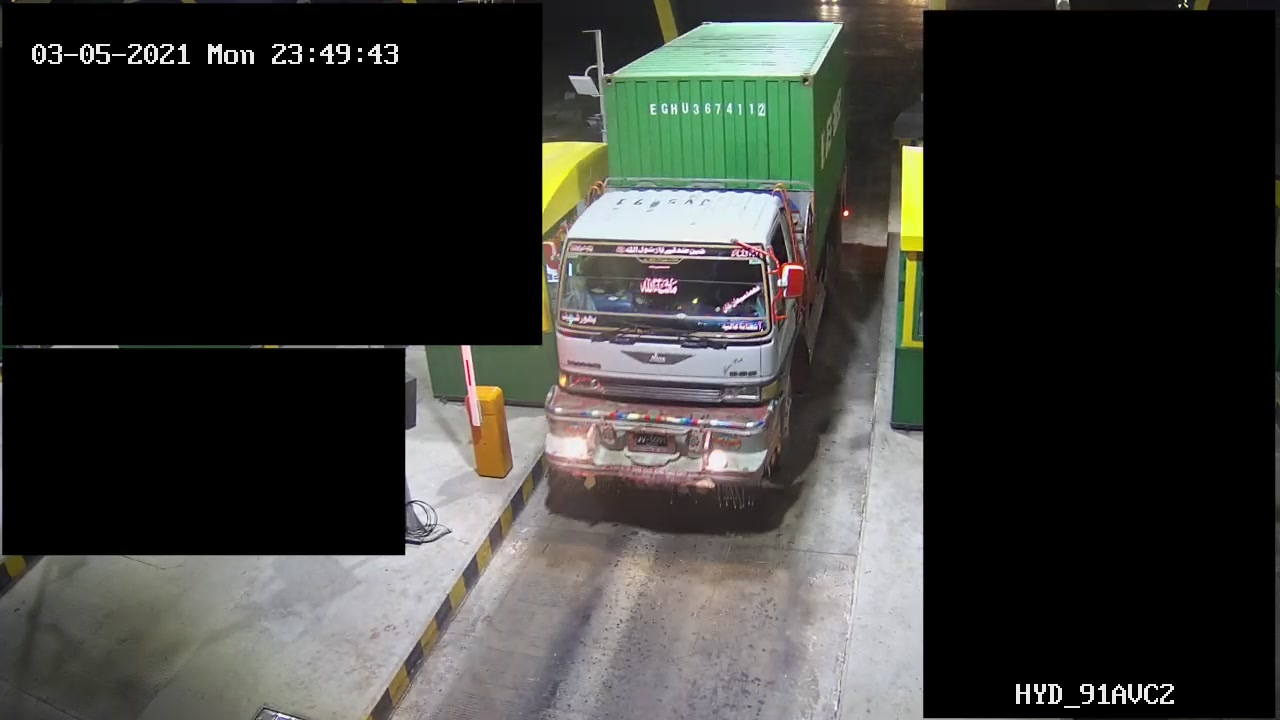F6: (533, 8, 863, 531)
